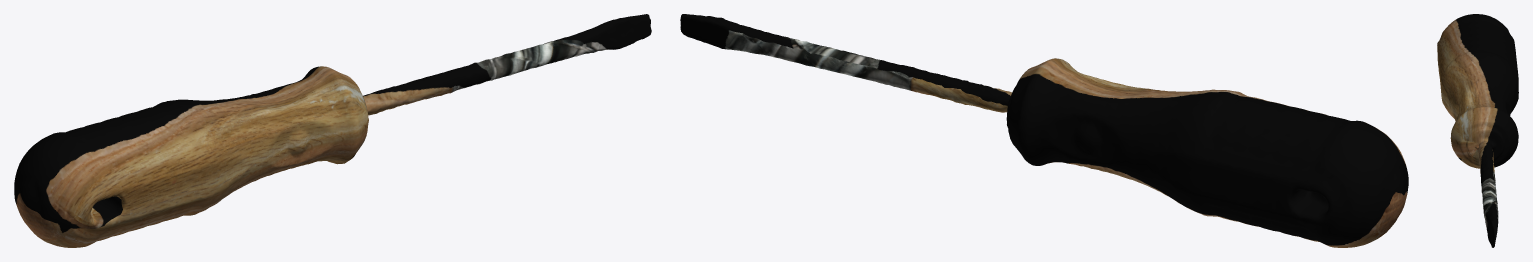
File: textured_vhacd.obj
The picture shows the model from 3 angles, left to right: view 1: azimuth 30°, elevation 25°; view 2: azimuth 150°, elevation 25°; view 3: azimuth 270°, elevation 25°; orthographic projection. The views are drawn at different scales.
Size of the model in its own units: 0.2159 by 0.035 by 0.035.
